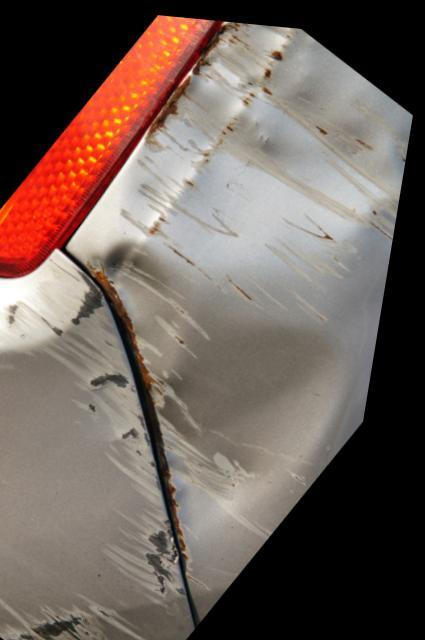dent: (109, 17, 415, 538)
scratch: (0, 261, 211, 640)
